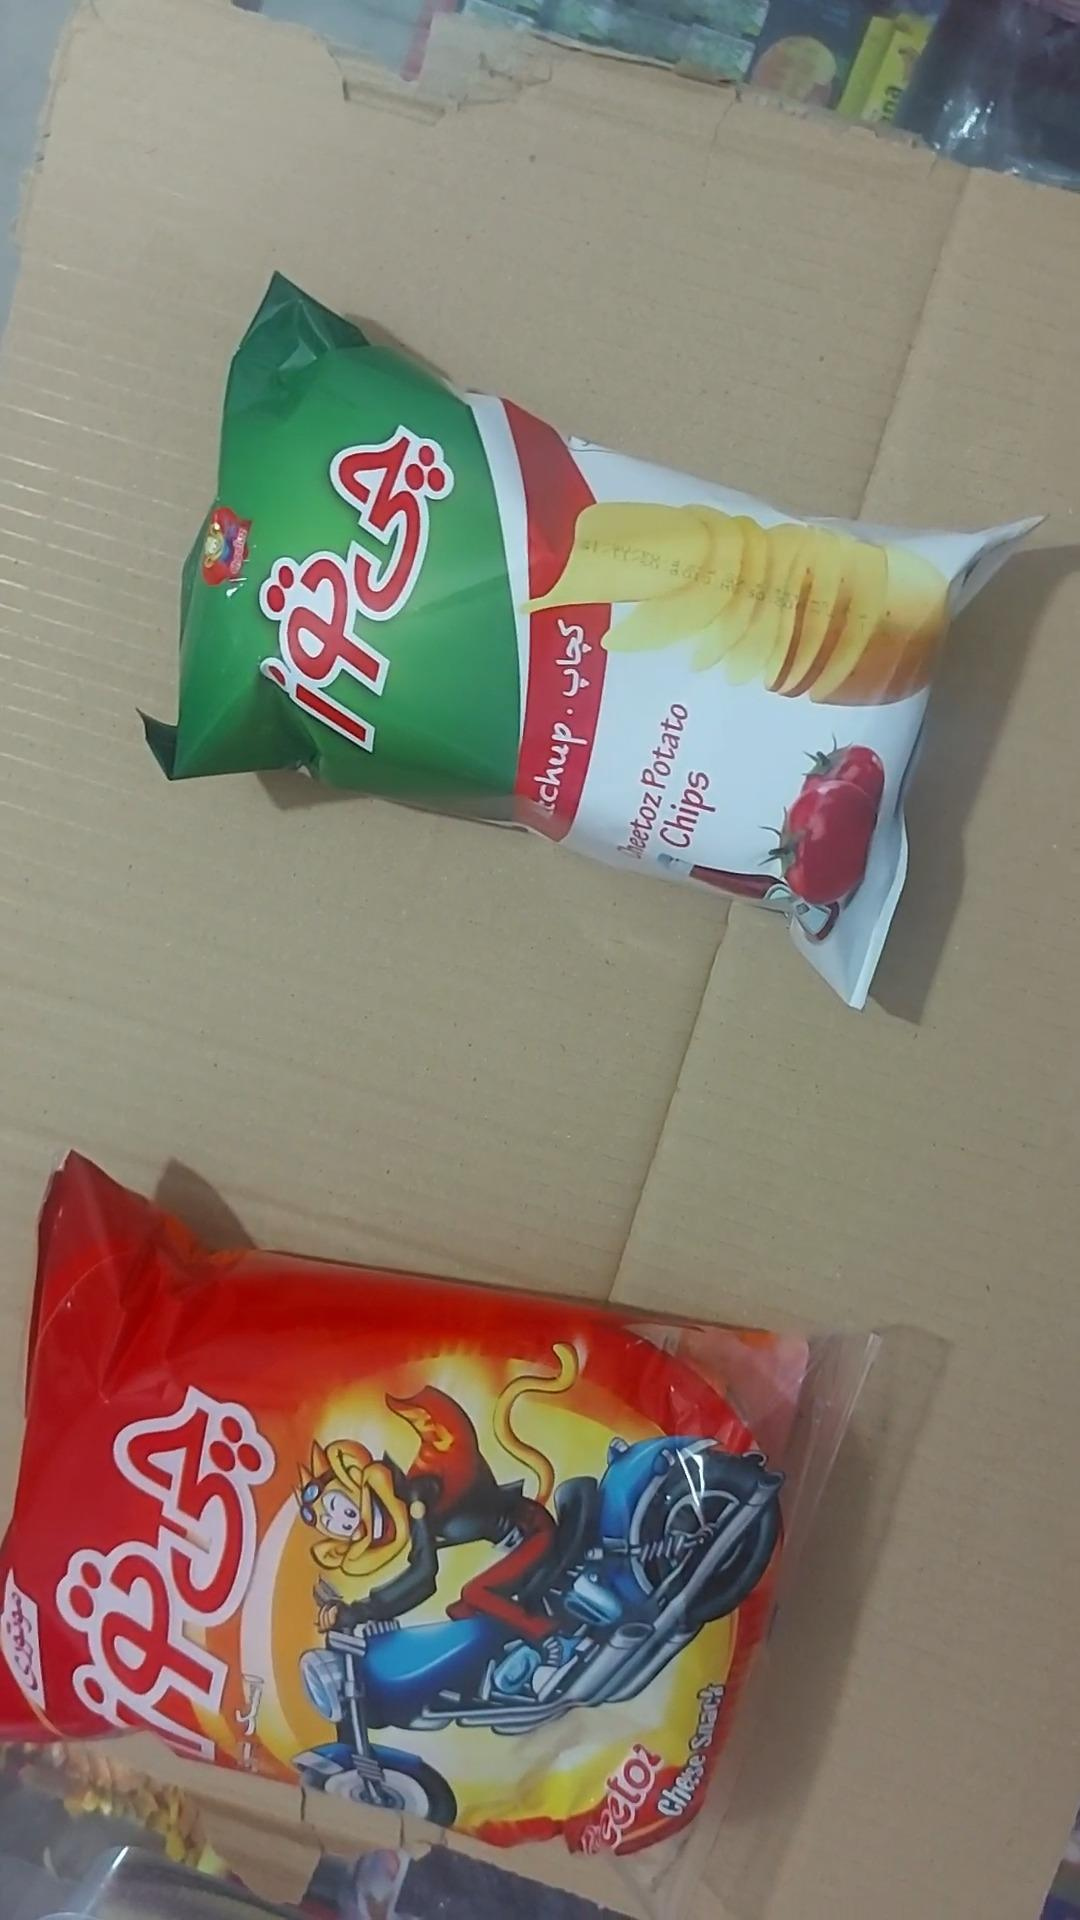Cheetoz ketchup chips: (132, 262, 1056, 1015)
Cheetoz snack 90g: (0, 1153, 886, 1857)
